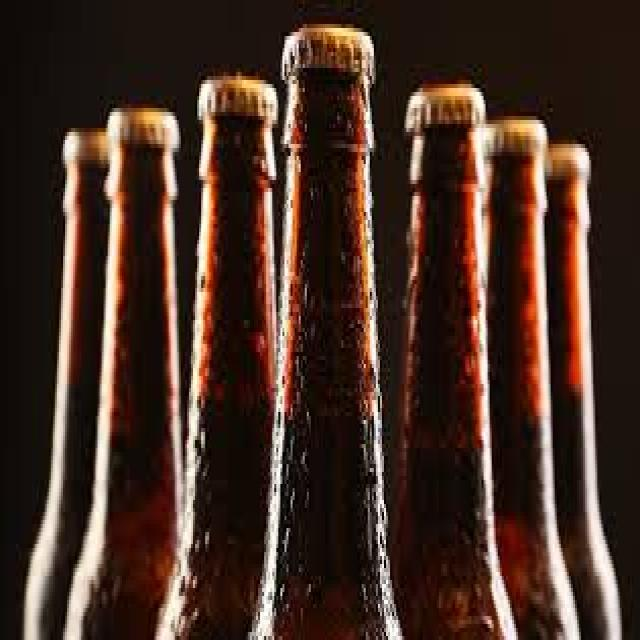Anorganik: (244, 20, 402, 636), (390, 80, 518, 636), (152, 72, 278, 636), (61, 104, 183, 636), (480, 108, 579, 636), (22, 128, 110, 636), (540, 140, 618, 636), (278, 24, 372, 72), (195, 68, 276, 116), (104, 104, 178, 148), (402, 84, 482, 120), (482, 116, 546, 148), (543, 140, 585, 168), (61, 132, 108, 156)
